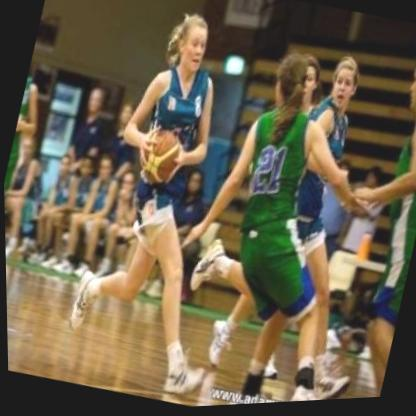basketball: (129, 122, 188, 195)
